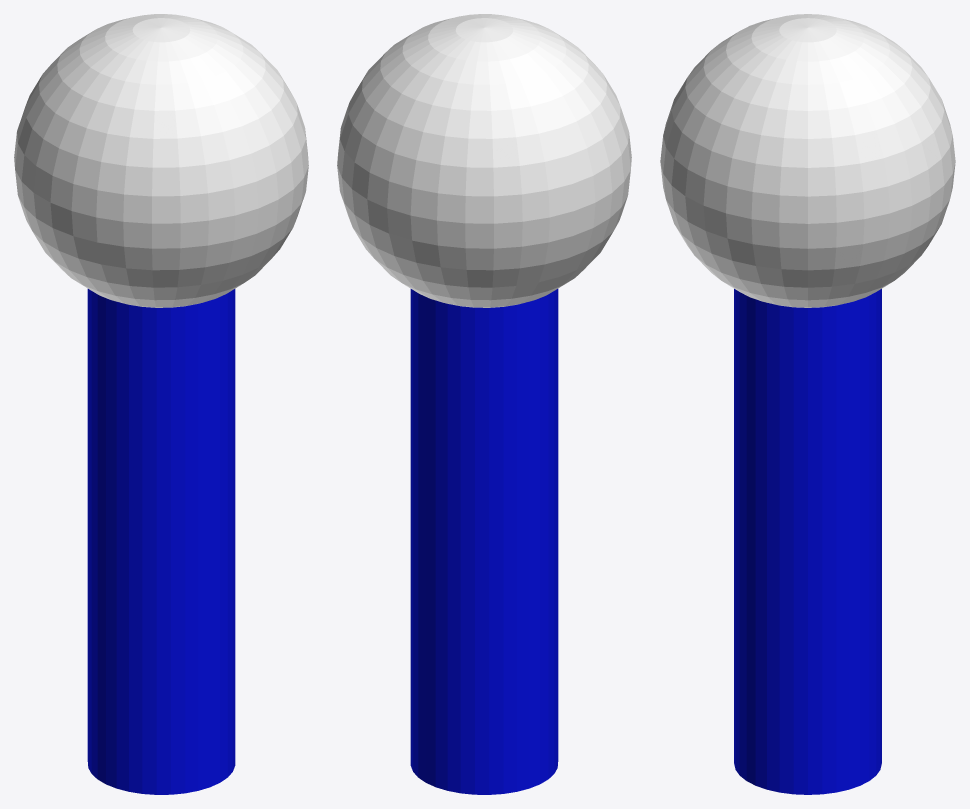
Rendered from LaserTowerModel.fbx.
The picture shows the model from 3 angles, left to right: view 1: azimuth 30°, elevation 25°; view 2: azimuth 150°, elevation 25°; view 3: azimuth 270°, elevation 25°; orthographic projection.
Visible parts, largest first — view 1: Cylinder, Sphere; view 2: Cylinder, Sphere; view 3: Cylinder, Sphere.
Part boxes in pixels (x1,y1,x2,y2): Cylinder: (87,289,235,794); Sphere: (14,14,308,307); Cylinder: (410,289,558,794); Sphere: (337,14,631,307); Cylinder: (734,289,881,794); Sphere: (660,14,955,307).
Bounding box in the file's own units: 100 × 275 × 100.
